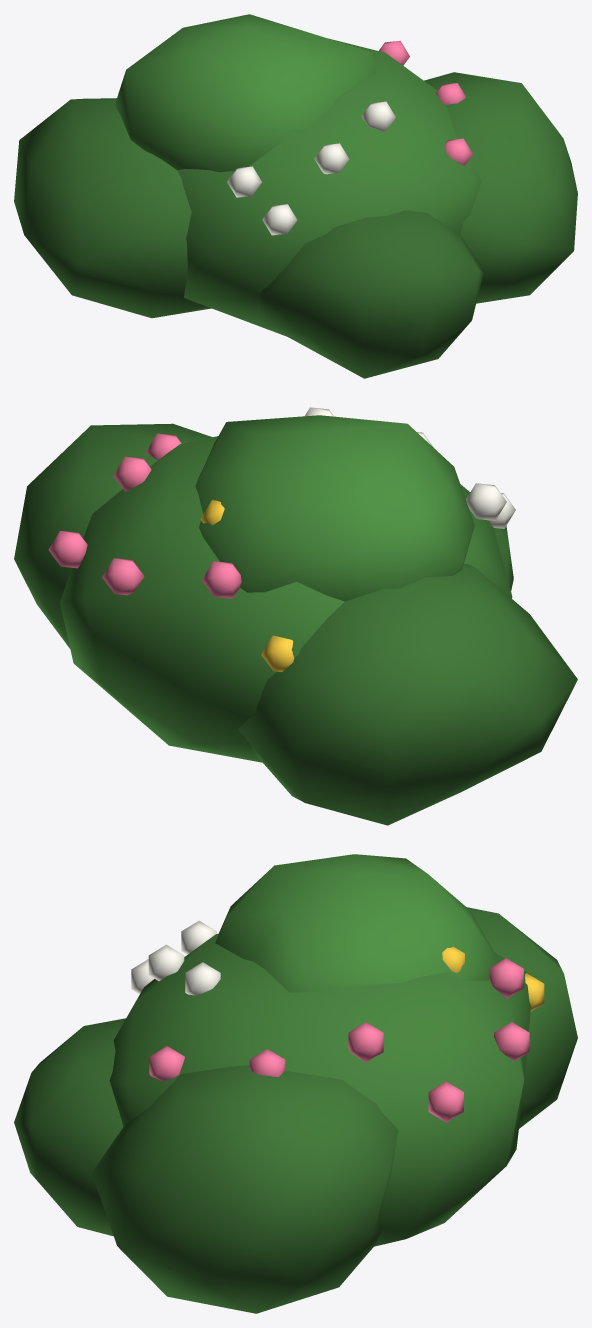
Rendered from Bush2.glb.
The picture shows the model from 3 angles, top to bottom: view 1: azimuth 30°, elevation 25°; view 2: azimuth 150°, elevation 25°; view 3: azimuth 270°, elevation 25°; orthographic projection. The views are drawn at different scales.
Visible parts, largest first — view 1: Bush2; view 2: Bush2; view 3: Bush2.
Part boxes in pixels (box(x1,y1,x2,y2)): Bush2: box(14, 14, 577, 378); Bush2: box(14, 407, 577, 825); Bush2: box(14, 854, 577, 1313).
Bounding box in the file's own units: 2.69 × 1.47 × 2.3.
